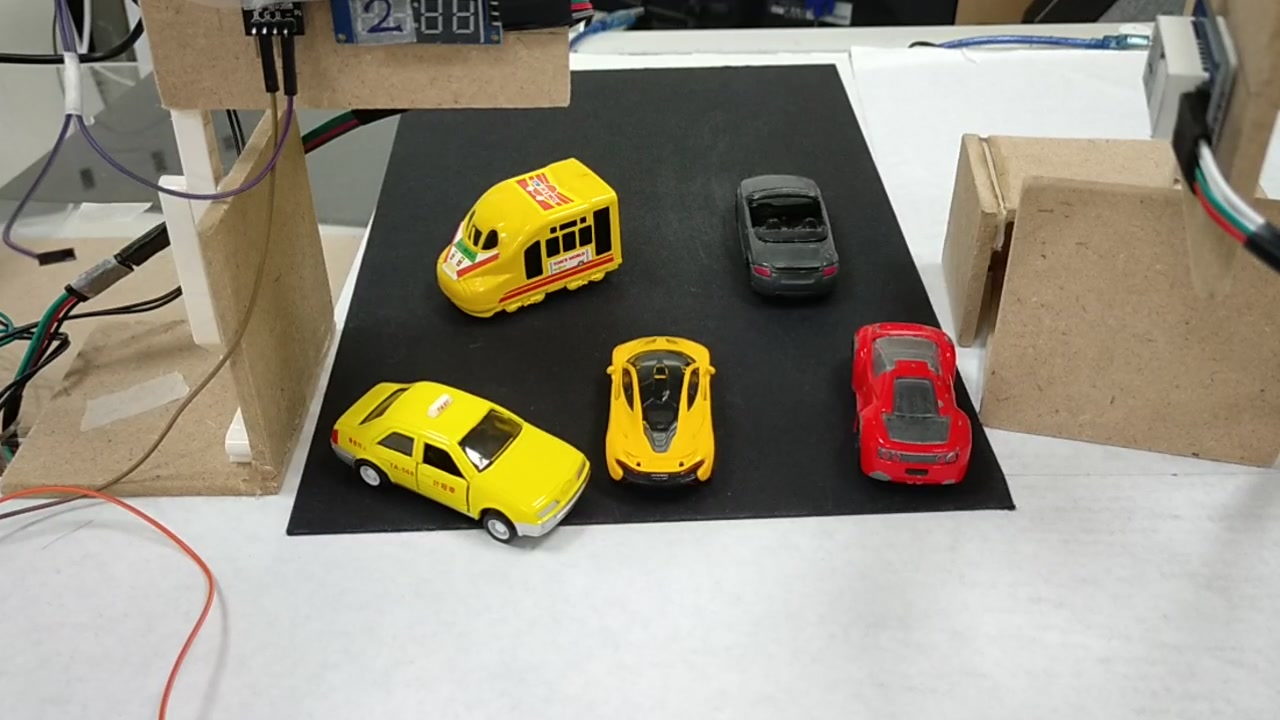car: (336, 361, 586, 551), (849, 316, 975, 493), (612, 340, 713, 479), (735, 177, 838, 292)
